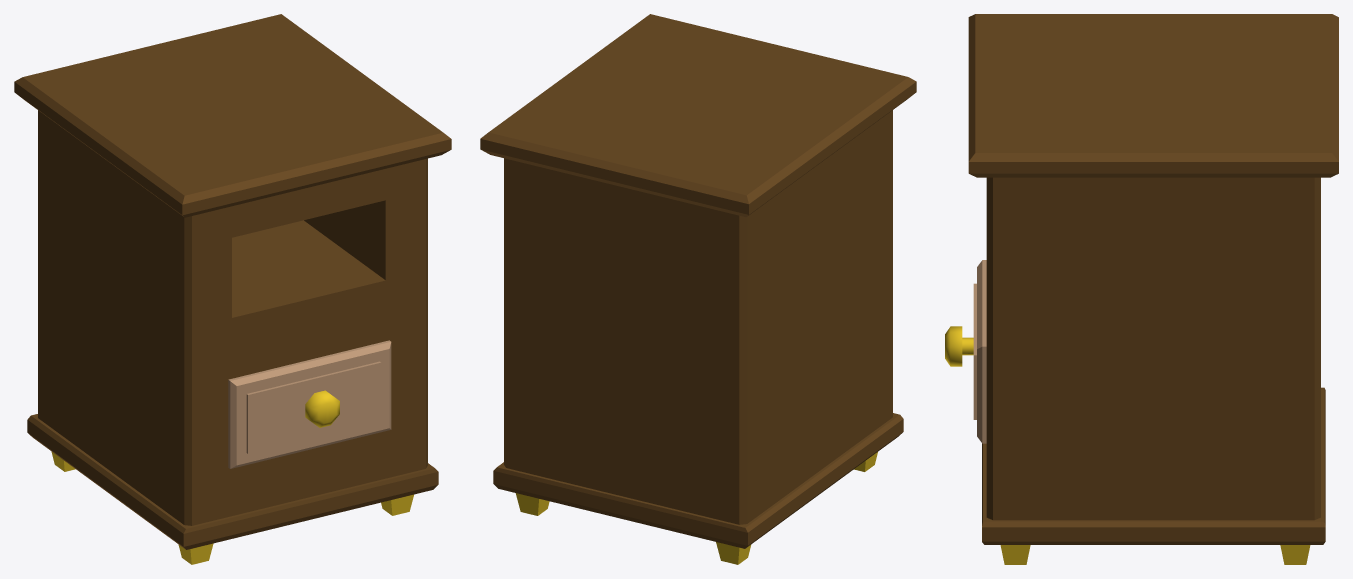
The model's file is bed_table.glb.
The picture shows the model from 3 angles, left to right: view 1: azimuth 30°, elevation 25°; view 2: azimuth 150°, elevation 25°; view 3: azimuth 270°, elevation 25°; orthographic projection. The views are drawn at different scales.
Visible parts, largest first — view 1: Bed Table, Bed Table Ac; view 2: Bed Table; view 3: Bed Table, Bed Table Ac.
Boxes of the visible parts, x1,y1,x2,y2 form: Bed Table: [14, 14, 451, 564]; Bed Table Ac: [228, 340, 391, 468]; Bed Table: [480, 14, 916, 564]; Bed Table: [968, 14, 1338, 564]; Bed Table Ac: [945, 260, 986, 443].
Bounding box in the file's own units: 0.7148 × 0.9742 × 0.8221.
Materials: 2 (2 with a texture image).
